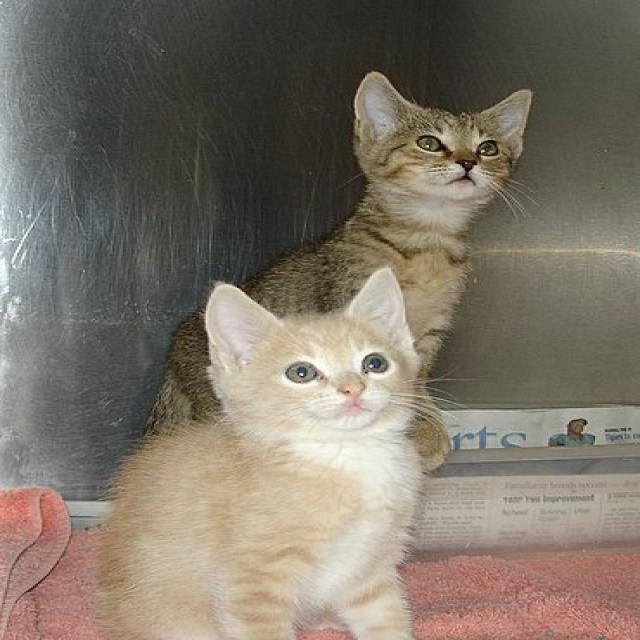cats: (100, 73, 533, 640)
